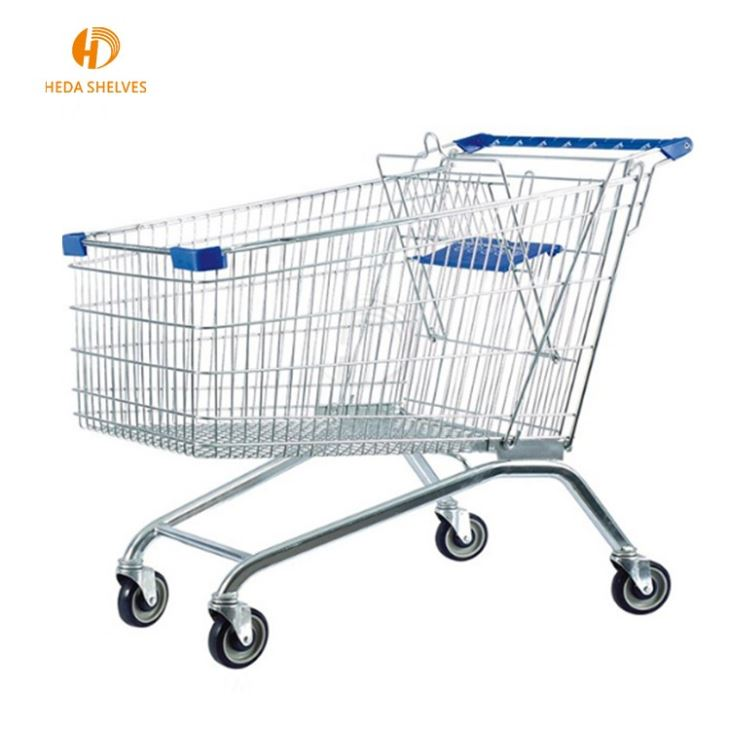with_basket: (43, 126, 691, 661)
